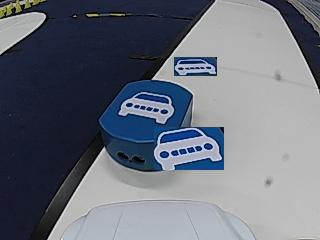safety: (119, 91, 176, 123)
